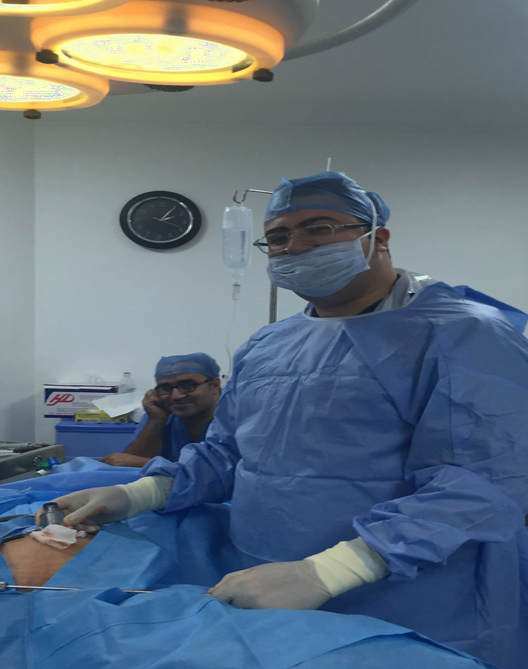mask_weared_incorrect: (245, 176, 391, 302)
